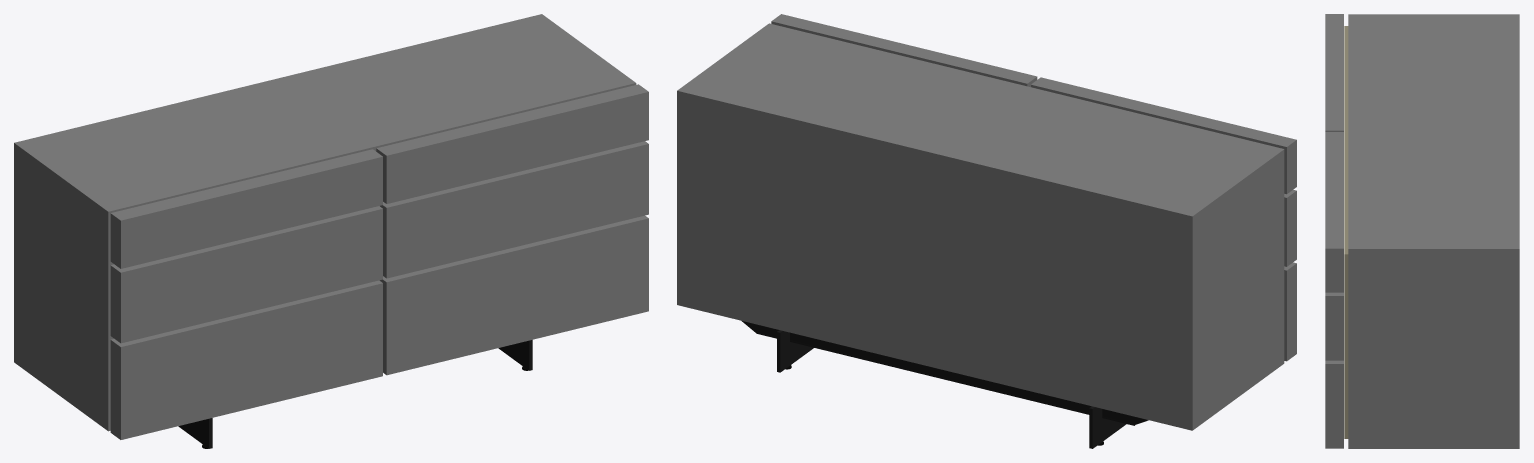
Rendered from pandora-dressoir.FBX.
The picture shows the model from 3 angles, left to right: view 1: azimuth 30°, elevation 25°; view 2: azimuth 150°, elevation 25°; view 3: azimuth 270°, elevation 25°; orthographic projection. The views are drawn at different scales.
Parts seen in each view (by area): view 1: main, drawer3, drawer2, drawer1; view 2: main, drawer1, beam1, drawer3, drawer2, beam2, beam3; view 3: main, drawer1, behind_drawer, drawer3, drawer2.
Part boxes in pixels (<box>): main: <box>14,14,636,431</box>; drawer3: <box>110,215,648,439</box>; drawer2: <box>110,141,648,343</box>; drawer1: <box>110,84,648,268</box>; main: <box>677,23,1284,430</box>; drawer1: <box>771,14,1296,194</box>; beam1: <box>742,321,1148,425</box>; drawer3: <box>1284,262,1296,361</box>; drawer2: <box>1284,189,1296,266</box>; beam2: <box>1089,406,1126,448</box>; beam3: <box>777,330,813,372</box>; main: <box>1348,14,1519,448</box>; drawer1: <box>1325,14,1343,292</box>; behind_drawer: <box>1344,26,1348,438</box>; drawer3: <box>1325,360,1343,448</box>; drawer2: <box>1325,292,1343,360</box>.
Bounding box in the file's own units: 149 × 71.29 × 52.11.
